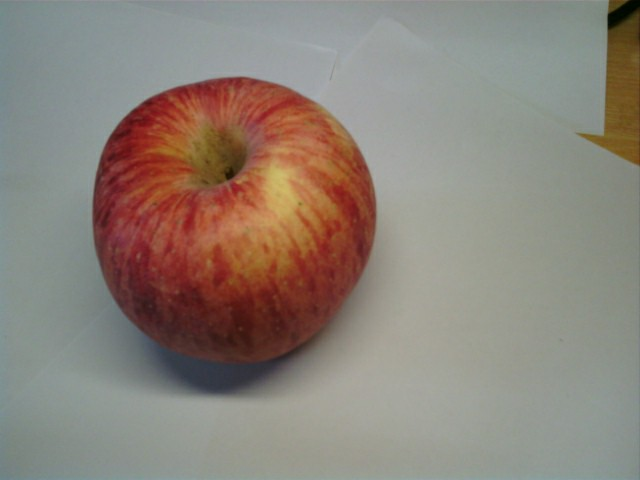normal_apple: (89, 77, 377, 369)
